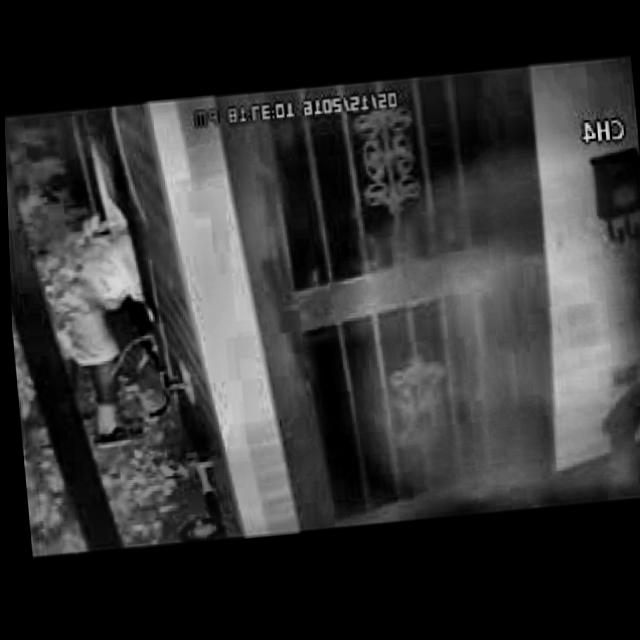burglary: (20, 191, 178, 454)
